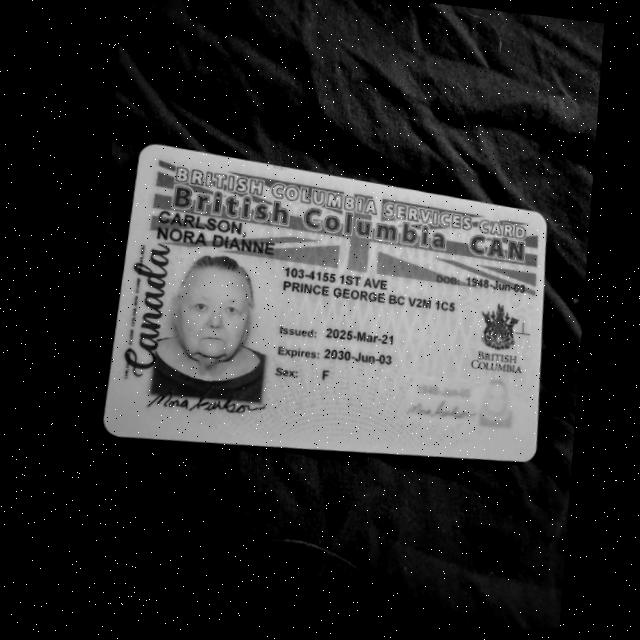card: (105, 146, 545, 461)
